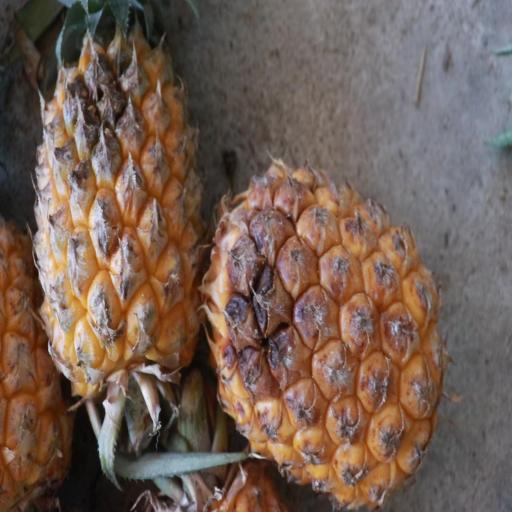Pineapple - v8 v1: (201, 157, 450, 512), (29, 0, 206, 431)
